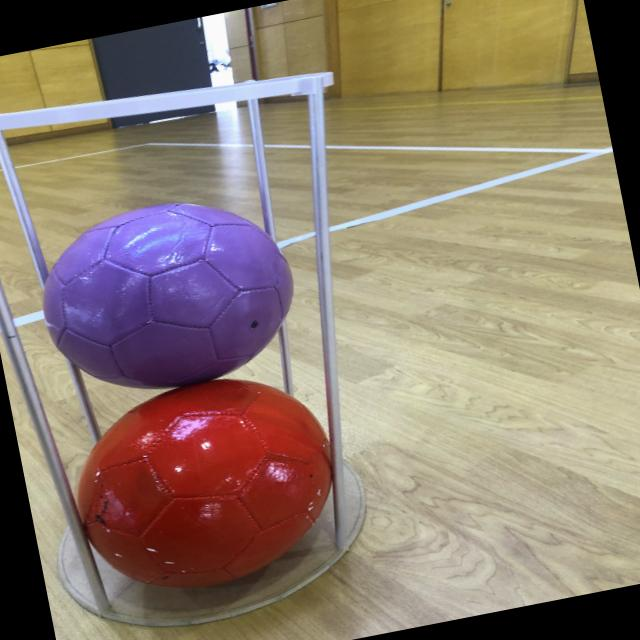purple_ball: (26, 178, 310, 407)
red_ball: (58, 357, 358, 608)
